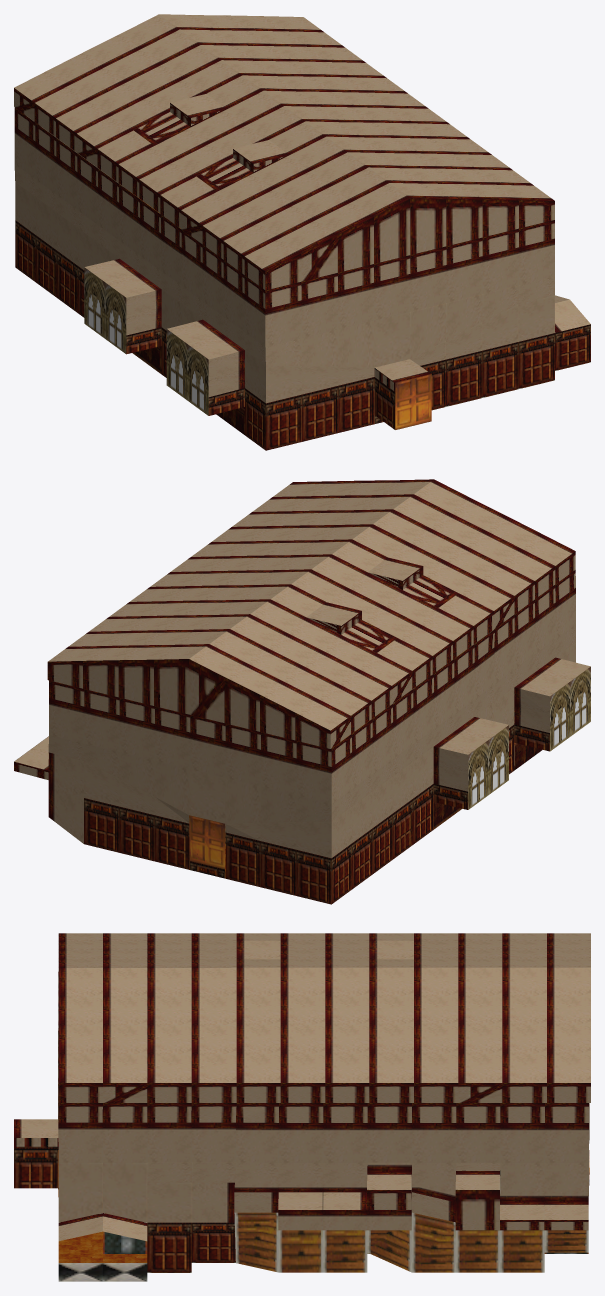
File: TrainRoomTRIII.obj
3 renders of one model, top to bottom at view 1: azimuth 30°, elevation 25°; view 2: azimuth 150°, elevation 25°; view 3: azimuth 270°, elevation 25°, orthographic. The views are drawn at different scales.
Parts seen in each view (by area): view 1: M.008_M.000; view 2: M.008_M.000; view 3: M.008_M.000.
Boxes of the visible parts, x1,y1,x2,y2 form: M.008_M.000: (14,14,590,450); M.008_M.000: (14,479,590,904); M.008_M.000: (14,933,590,1281).
Bounding box in the file's own units: 10.04 × 5.77 × 13.1.
